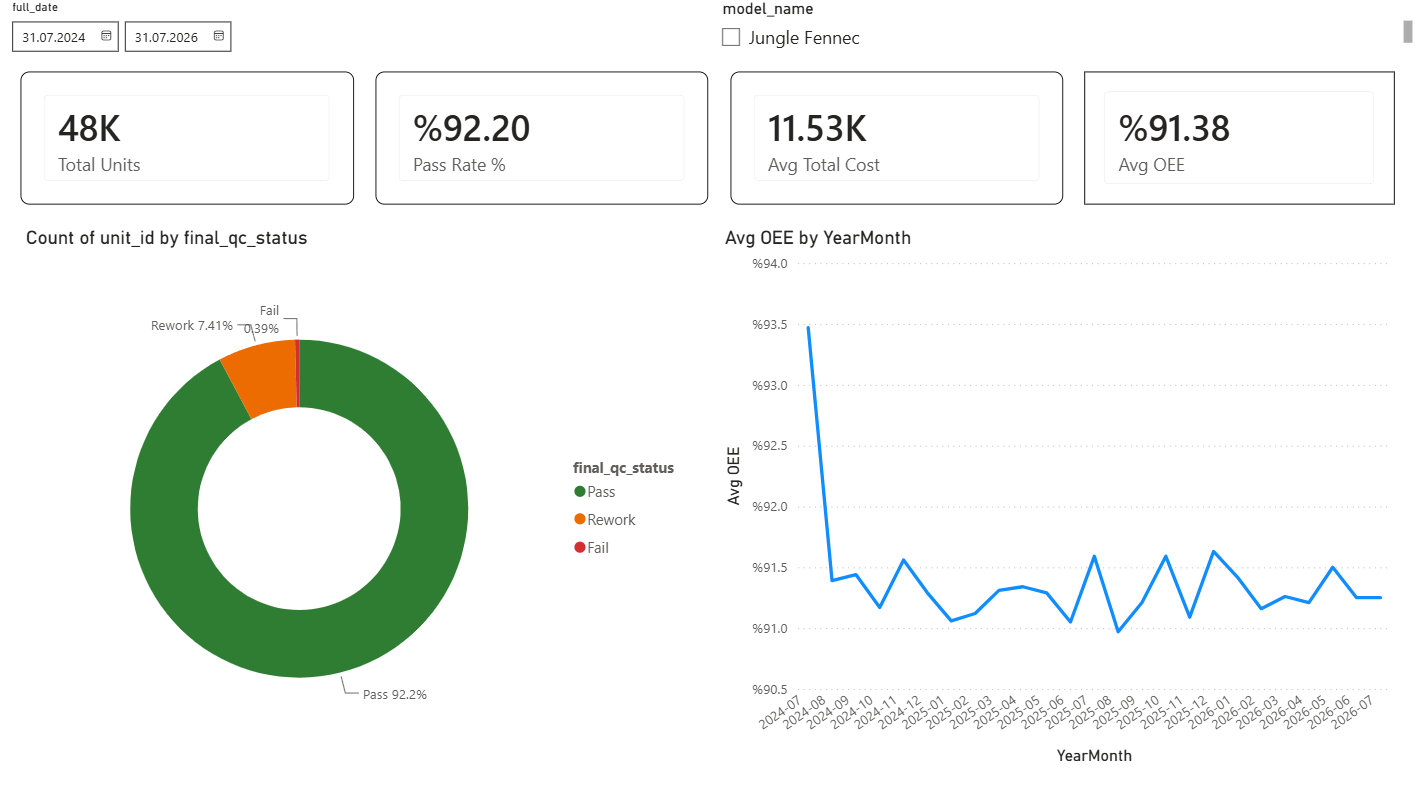

What the dashboard file says about the page in this screenshot:
{"tool":"powerbi","page":{"name":"Page 1","canvas":[1280,720],"ordinal":0},"visuals":[{"type":"slicer","fields":{"Values":["dim_date.full_date"]},"box":[0,0,640,60],"z":0},{"type":"cardVisual","fields":{"Data":["_Measures.Total Units"]},"box":[20,70,300.8,120],"z":1000},{"type":"cardVisual","fields":{"Data":["_Measures.Pass Rate %"]},"box":[340,70,300,120],"z":2000},{"type":"cardVisual","fields":{"Data":["_Measures.Avg Total Cost"]},"box":[660,70,300,120],"z":3000},{"type":"cardVisual","fields":{"Data":["_Measures.Avg OEE"]},"box":[980,70,280,120],"z":4000},{"type":"slicer","fields":{"Values":["unit_summary.model_name"]},"box":[640,0,640,60],"z":5000},{"type":"donutChart","fields":{"Category":["unit_summary.final_qc_status"],"Y":["CountNonNull(unit_summary.unit_id)"]},"box":[20,210,610,490],"z":6000},{"type":"lineChart","fields":{"Y":["_Measures.Avg OEE"],"Category":["oee_line_monthly.YearMonth"]},"box":[650,210,610,490],"z":7000}]}

Visuals, with their boxes in screenshot pixels (x1, y1, x2, y2), scaled from the page's 1280x720 canvas onto the 1417x791 screenshot:
slicer - dim_date.full_date: {"left": 0, "top": 0, "right": 708, "bottom": 66}
cardVisual - _Measures.Total Units: {"left": 22, "top": 77, "right": 355, "bottom": 209}
cardVisual - _Measures.Pass Rate %: {"left": 376, "top": 77, "right": 708, "bottom": 209}
cardVisual - _Measures.Avg Total Cost: {"left": 731, "top": 77, "right": 1063, "bottom": 209}
cardVisual - _Measures.Avg OEE: {"left": 1085, "top": 77, "right": 1395, "bottom": 209}
slicer - unit_summary.model_name: {"left": 708, "top": 0, "right": 1416, "bottom": 66}
donutChart - unit_summary.final_qc_status x CountNonNull(unit_summary.unit_id): {"left": 22, "top": 231, "right": 697, "bottom": 769}
lineChart - _Measures.Avg OEE x oee_line_monthly.YearMonth: {"left": 720, "top": 231, "right": 1395, "bottom": 769}
